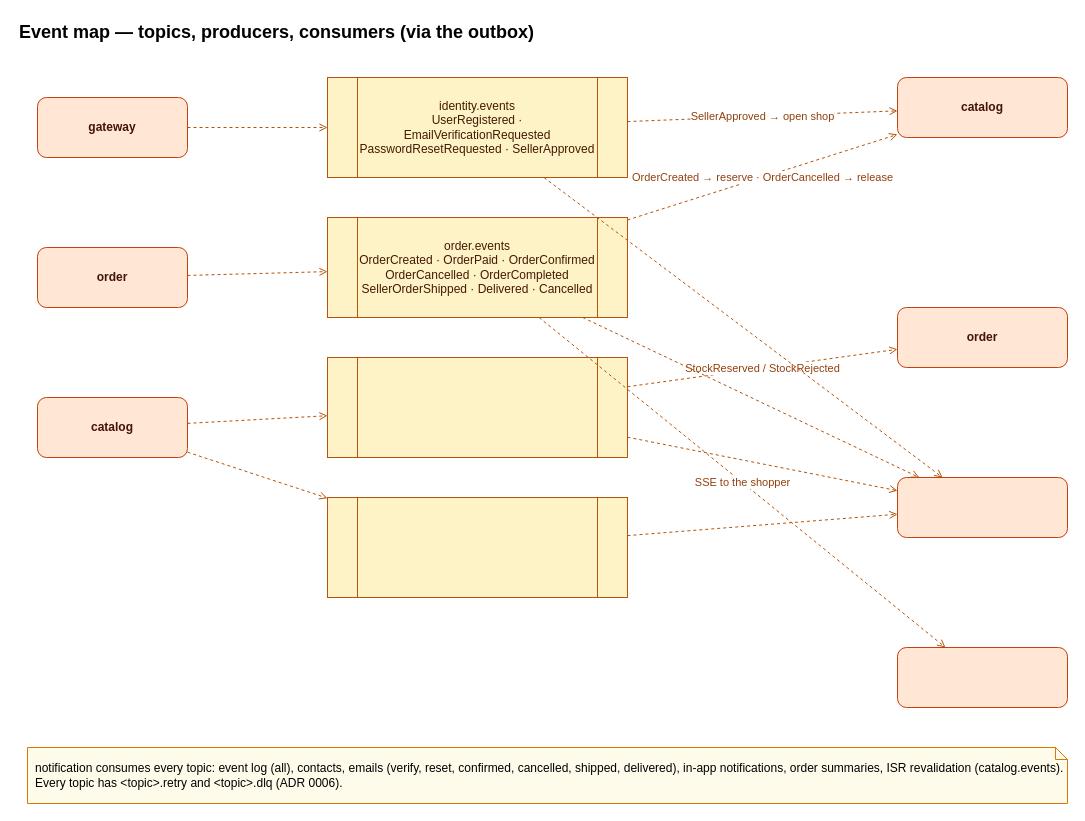
Image size: 1085x821. Some labels were removed from this diagram. Each missing label, with the box of its shape:
catalog.events ProductPublished · ProductUpdated ProductHidden · RatingUpdated: (326, 496, 628, 598)
gateway (live): (896, 646, 1068, 708)
inventory.events StockReserved · StockRejected · StockReleased: (326, 356, 628, 458)
notification: (896, 476, 1068, 538)
